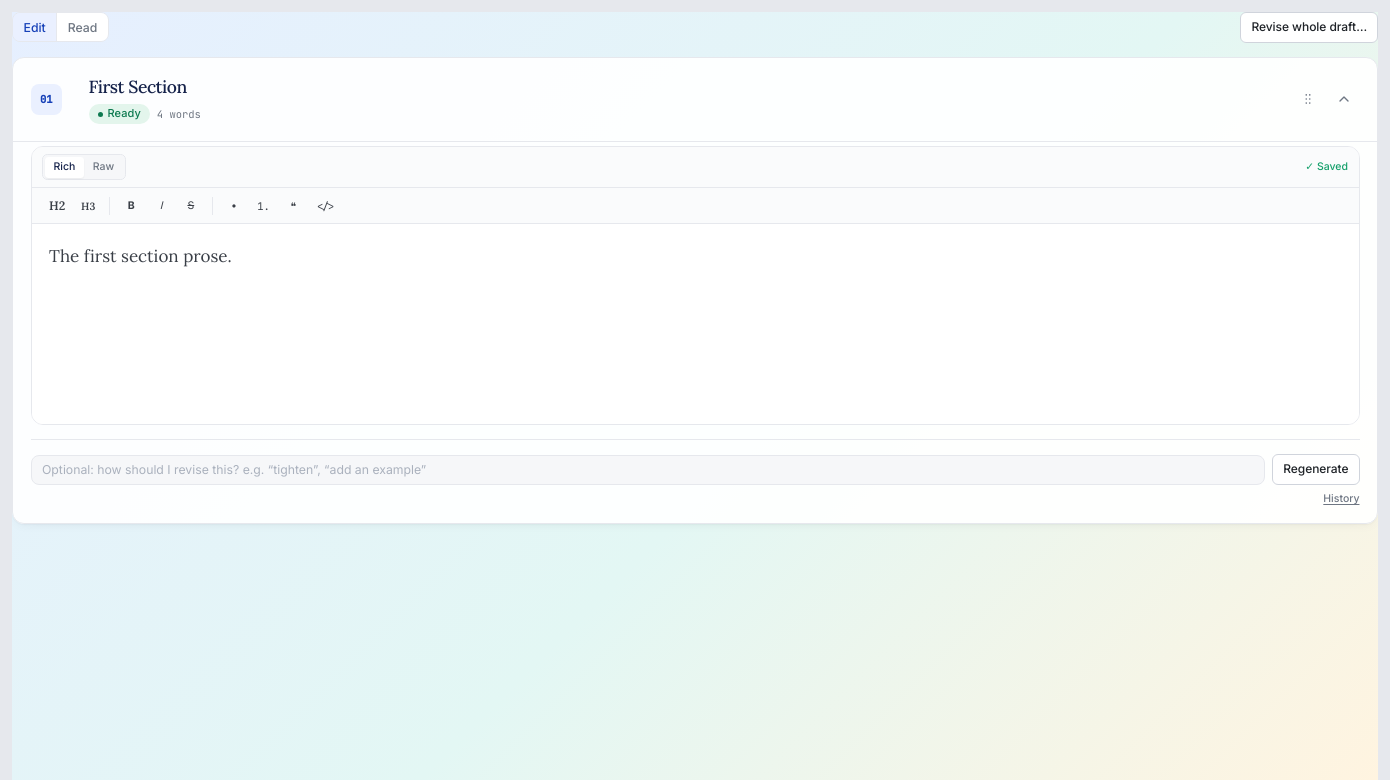
Scenario: SectionsPanel › switches to a continuous read view
Click the button "Read". click: (82, 27)
box: [56, 13, 108, 41]
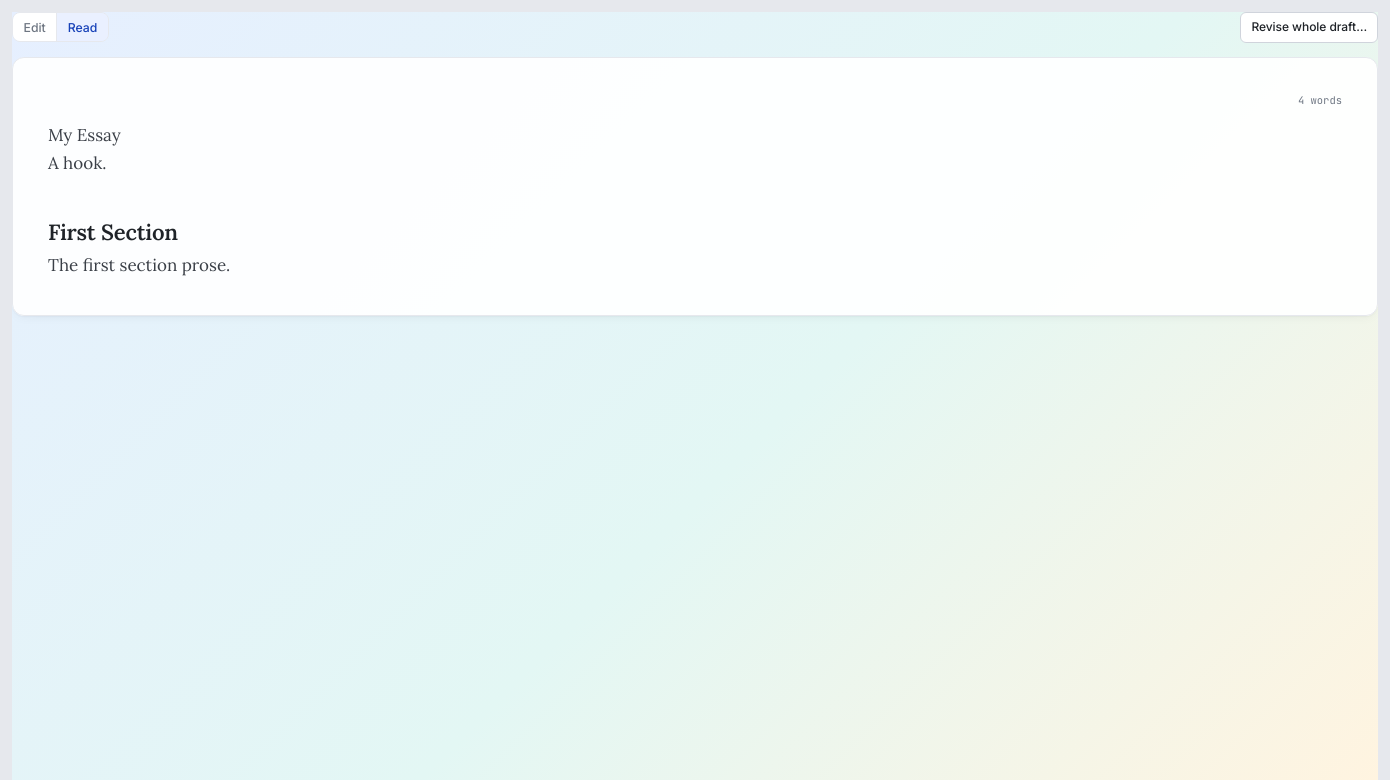
expect the text "The first section prose." is shown: met, box [48, 254, 230, 276]
expect the heading "My Essay" is shown: met, box [48, 124, 121, 146]
